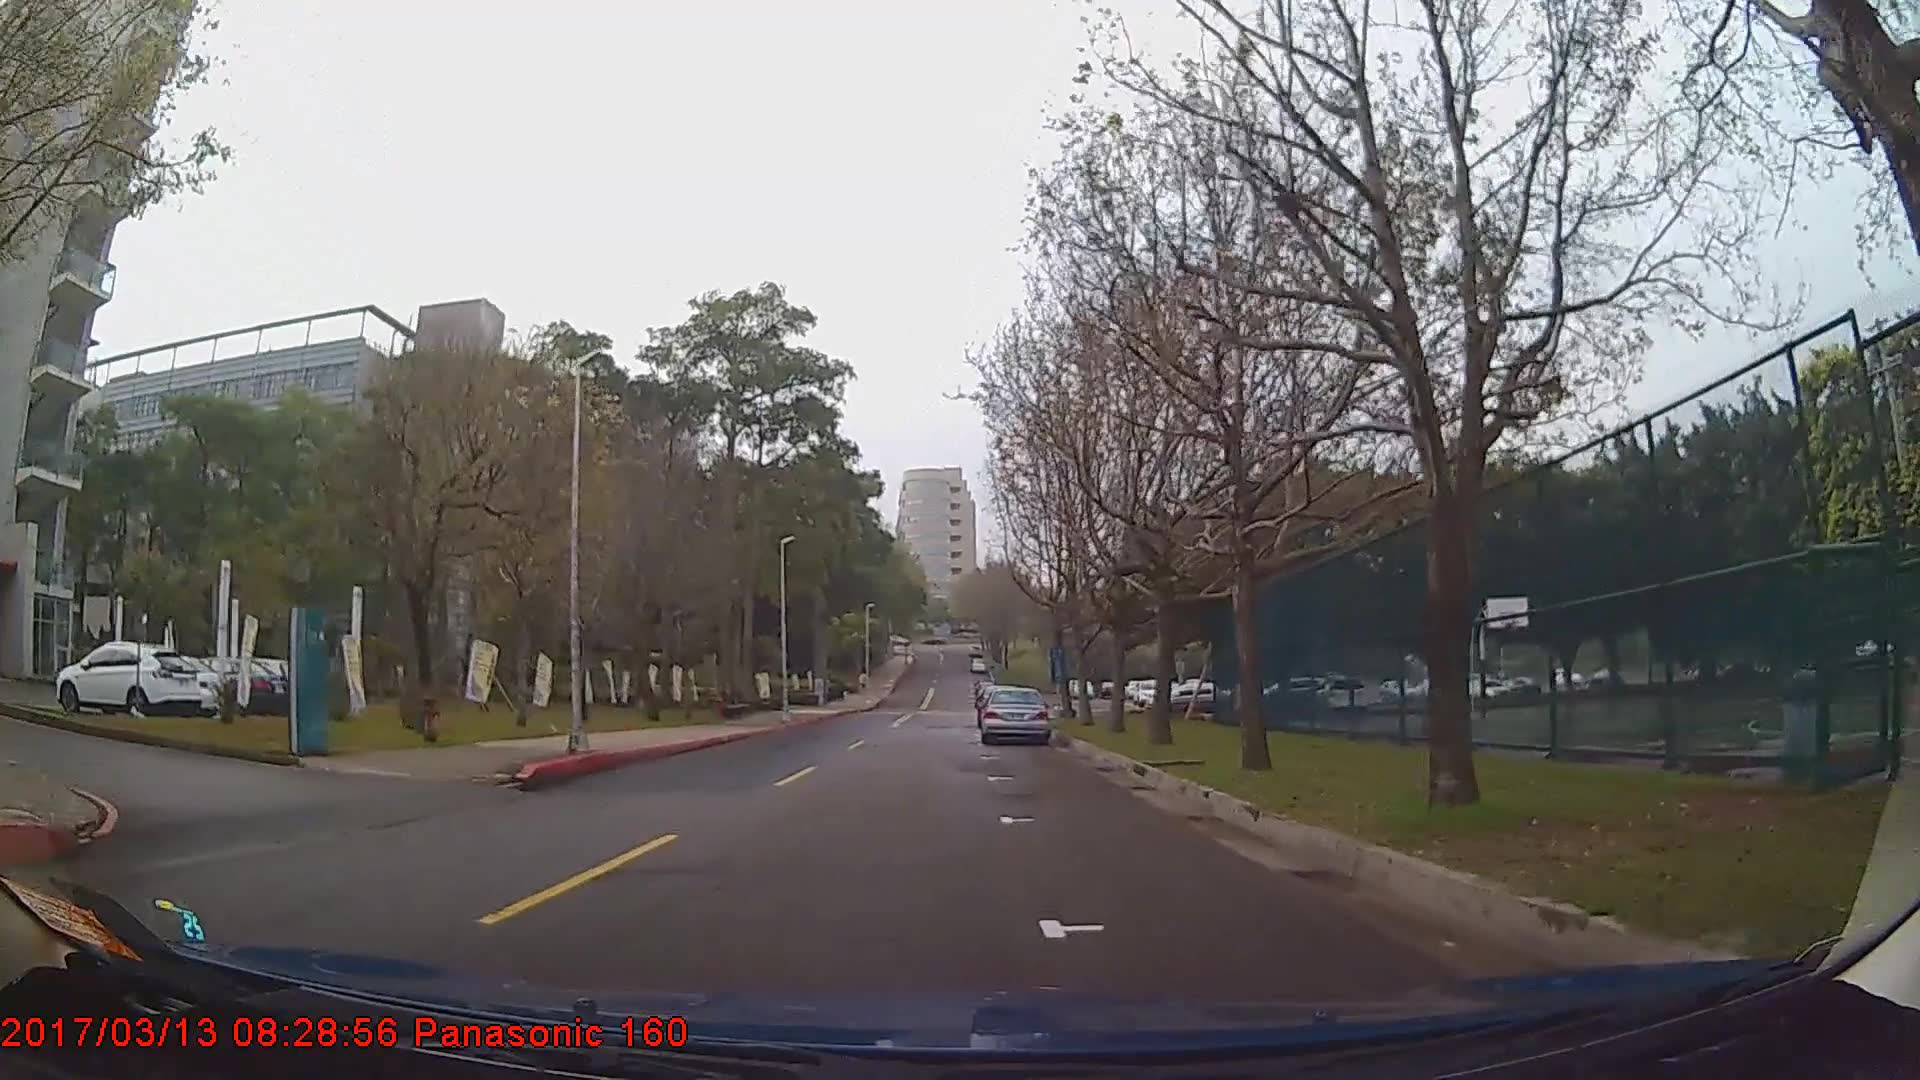vehicle: (54, 641, 200, 717), (105, 651, 233, 712), (980, 686, 1051, 746)
